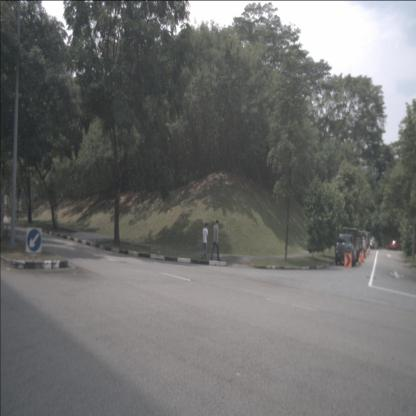cone: (358, 252, 362, 266), (366, 245, 369, 257), (361, 250, 364, 261)
